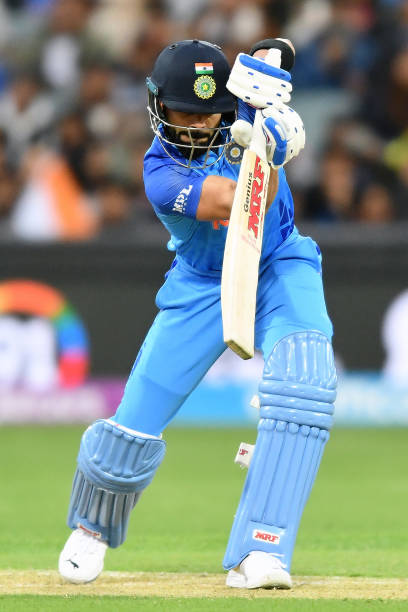bottom left: (206, 324, 239, 353)
bottom right: (244, 337, 261, 368)
top left: (234, 143, 256, 166)
top right: (264, 156, 281, 180)
